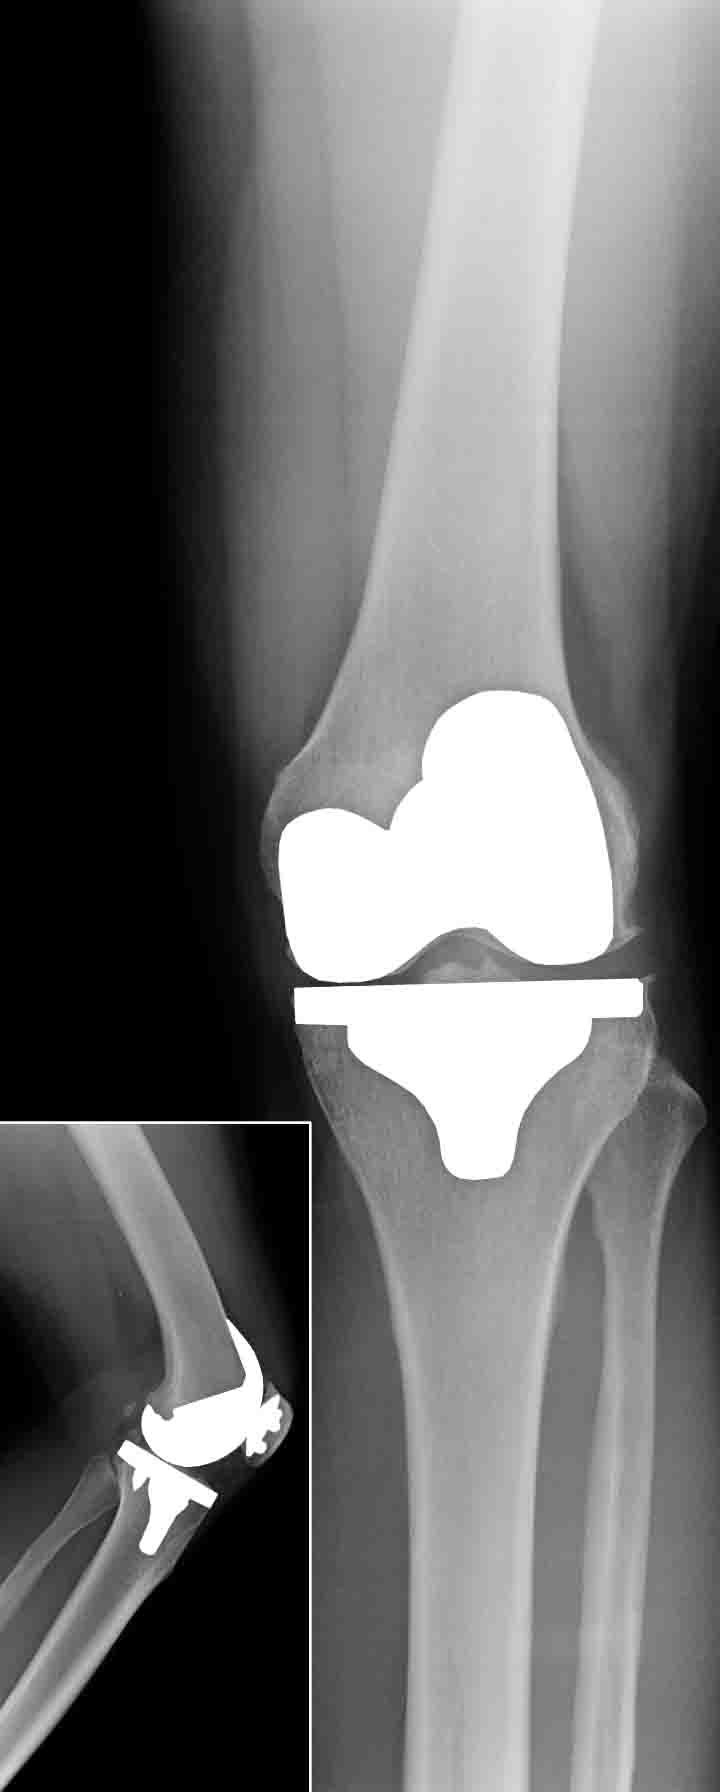Knee-TriathlonTritanium-Stryker: (267, 679, 645, 1189), (111, 1318, 288, 1557)
